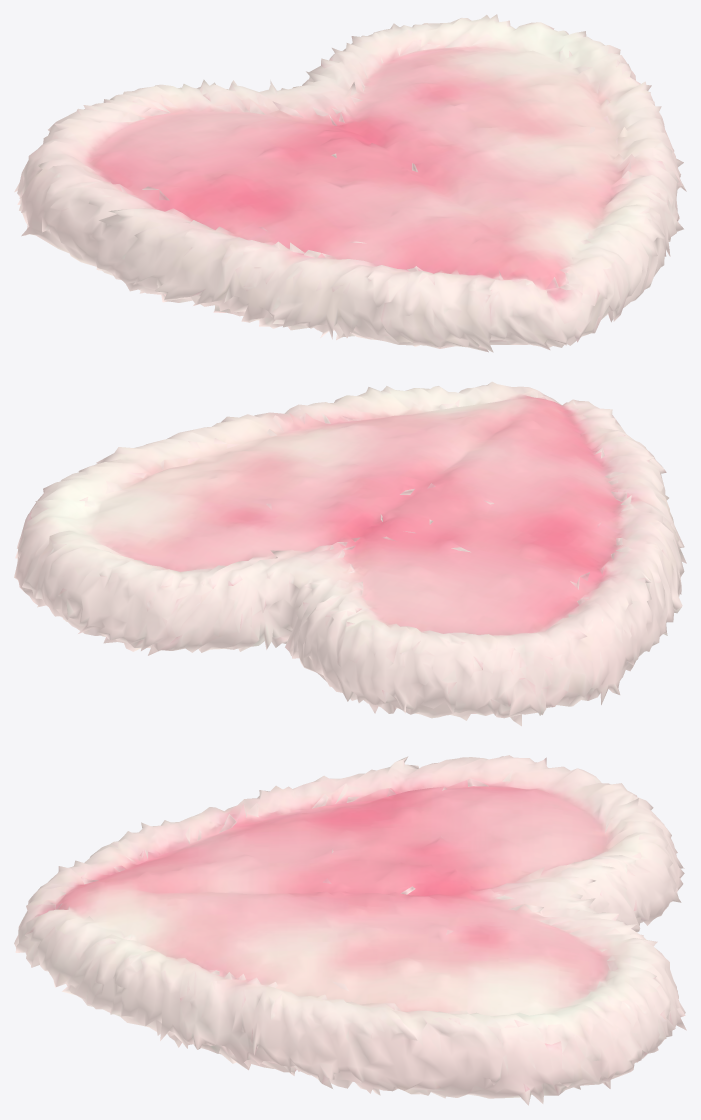
Rendered from Heart_rug.glb.
3 renders of one model, top to bottom at view 1: azimuth 30°, elevation 25°; view 2: azimuth 150°, elevation 25°; view 3: azimuth 270°, elevation 25°, orthographic.
Parts seen in each view (by area): view 1: Mesh_0; view 2: Mesh_0; view 3: Mesh_0.
Boxes of the visible parts, x1,y1,x2,y2 form: Mesh_0: (14,14,686,352); Mesh_0: (14,381,686,726); Mesh_0: (14,755,686,1105).
Bounding box in the file's own units: 1.91 × 0.2604 × 1.82.
Materials: 1 (1 with a texture image).
